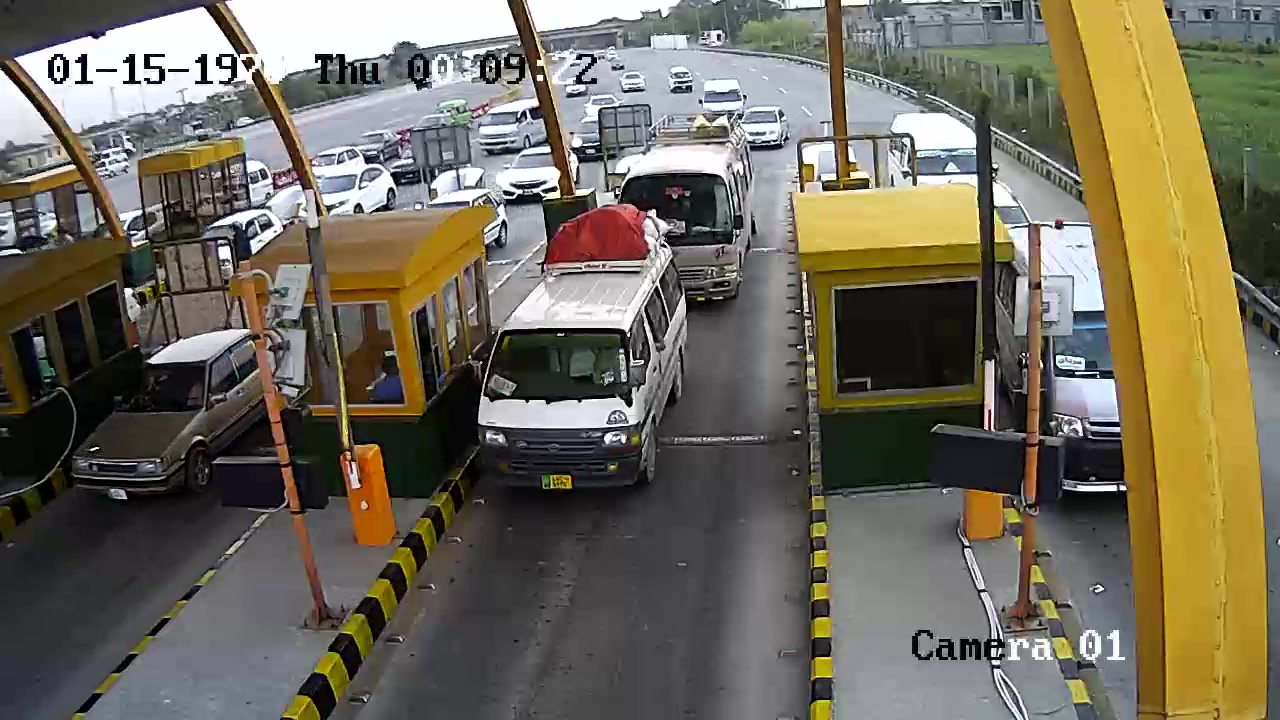F3: (459, 201, 700, 510)
